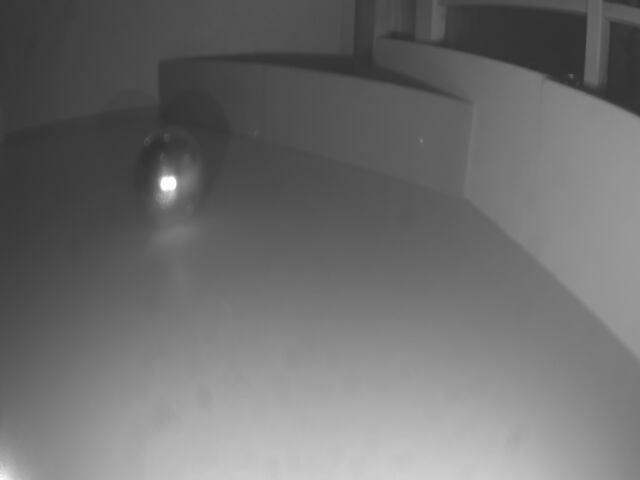Live: (132, 128, 211, 226)
Point: (160, 61, 472, 198)
